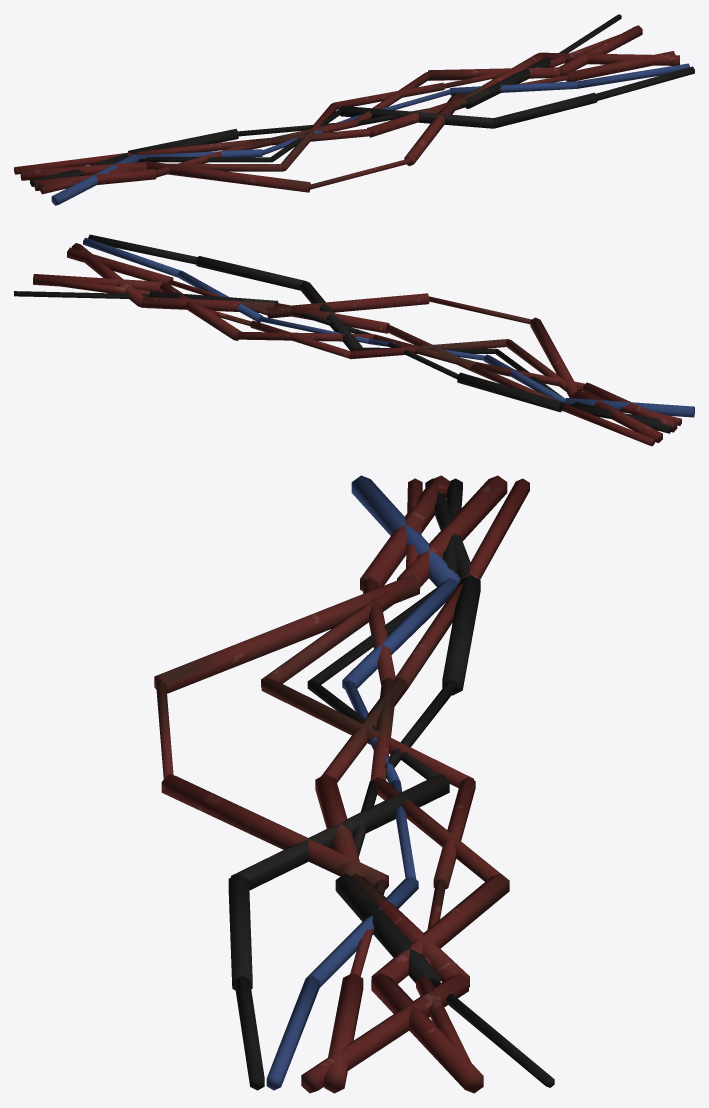
Rendered from Y08_floor_cable_bundles_v2.glb.
The picture shows the model from 3 angles, top to bottom: view 1: azimuth 30°, elevation 25°; view 2: azimuth 150°, elevation 25°; view 3: azimuth 270°, elevation 25°; orthographic projection. The views are drawn at different scales.
Visible parts, largest first — view 1: Y08_floor_cable_bundles_v2; view 2: Y08_floor_cable_bundles_v2; view 3: Y08_floor_cable_bundles_v2.
Part boxes in pixels (box(x1,y1,x2,y2)): Y08_floor_cable_bundles_v2: box(14, 14, 694, 205); Y08_floor_cable_bundles_v2: box(14, 234, 694, 446); Y08_floor_cable_bundles_v2: box(154, 475, 554, 1093).
Bounding box in the file's own units: 3 × 0.0497 × 0.8451.
3 materials, 3 textured.
